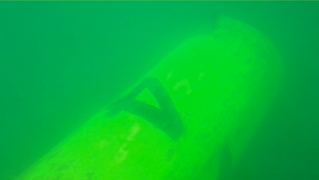4: (101, 75, 185, 142), (217, 142, 234, 180)
pipe: (13, 13, 287, 180)
